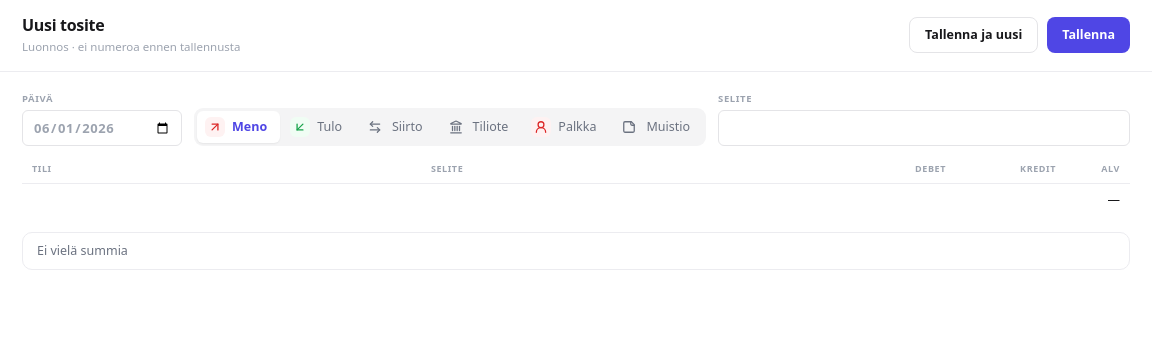
Test: TositeEditori — ulkoinen täyttö kesken käyttäjän kirjoituksen › Tallenna ja uusi: säilytetystä päivästä tulee seuraavan täytön oletuspäivä
Type "2026-06-15" into the date field labelled "Päivä".
click(102, 128); type("2026-06-15")  # box [22,110,182,146]
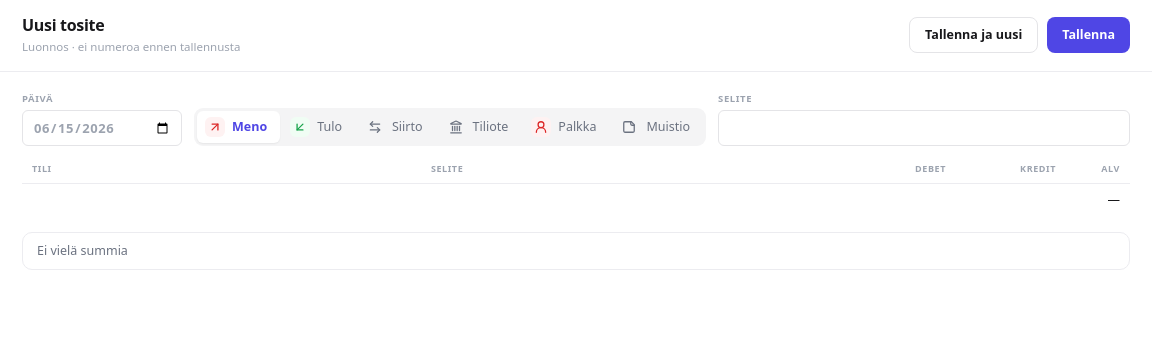
Click the button "Tallenna ja uusi".
click(974, 35)  # box [909,17,1038,53]
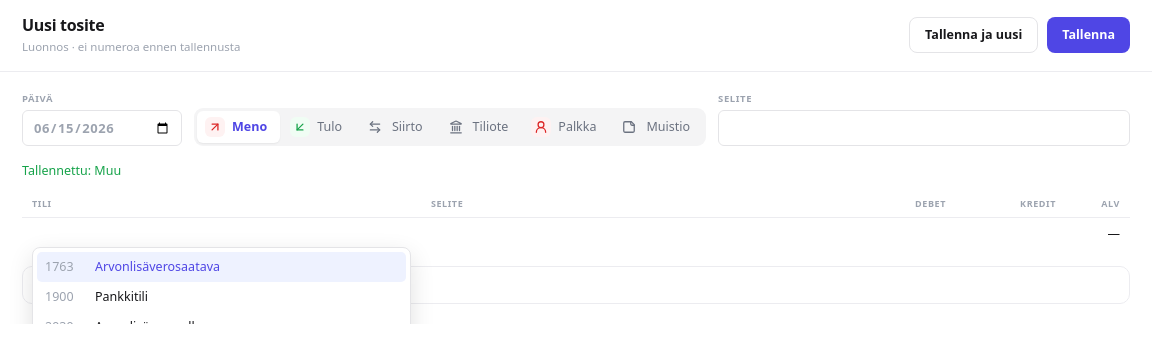
Now the text "Tallennettu: Muu" is shown, box [22,162,121,180]
